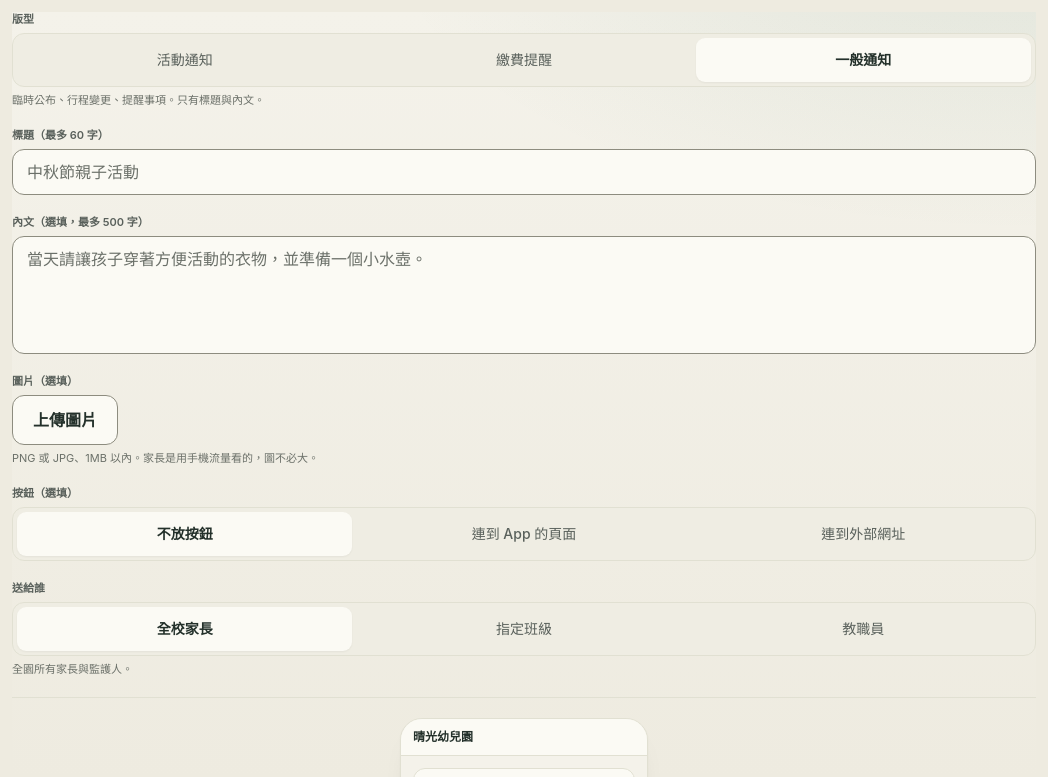
MessageComposer › 外部連結會明講「我們無法確認那個頁面安全或還活著」
Step 1. Click the radio button labelled "連到外部網址" → (863, 534), box [696,512,1031,556]
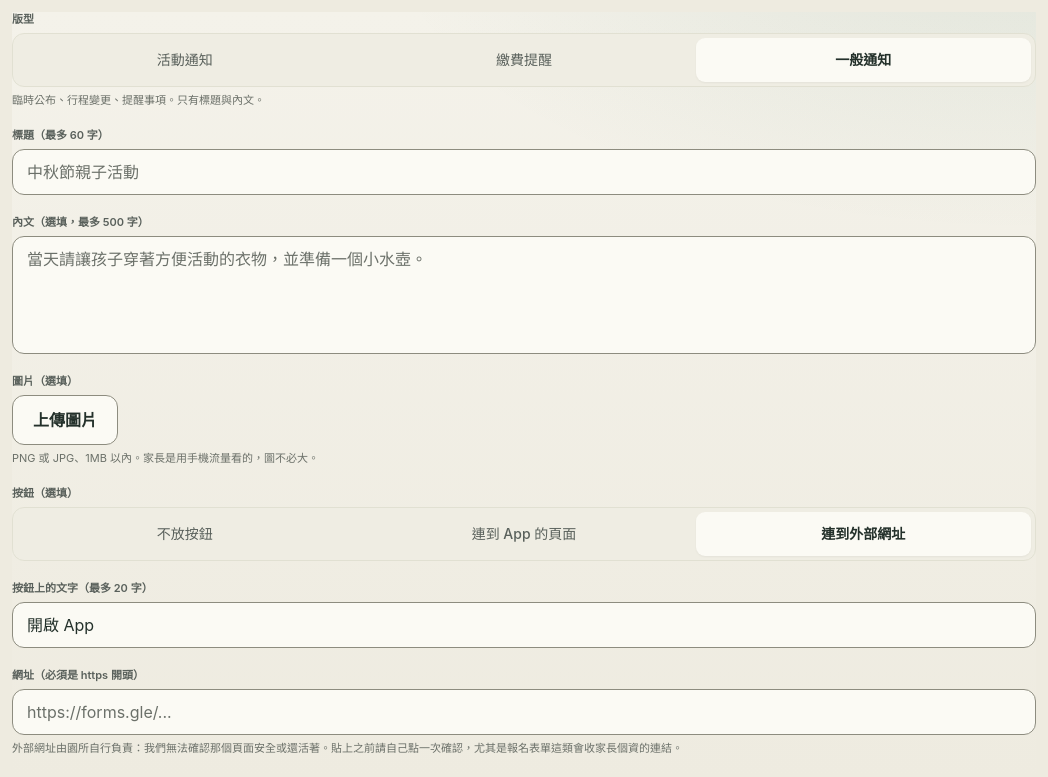
Expected: the text "無法確認那個頁面安全" is shown, [12,741,683,755]
